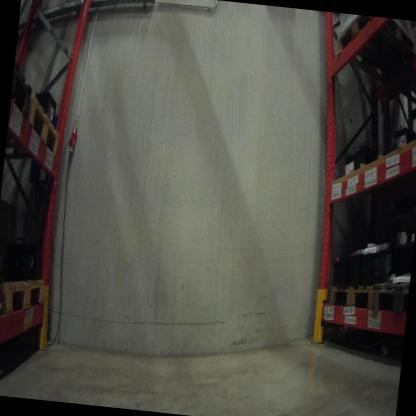pallet: (330, 16, 416, 92), (324, 256, 405, 320), (14, 87, 75, 168), (0, 263, 50, 324), (374, 264, 411, 317), (12, 53, 43, 116), (0, 274, 14, 329)
